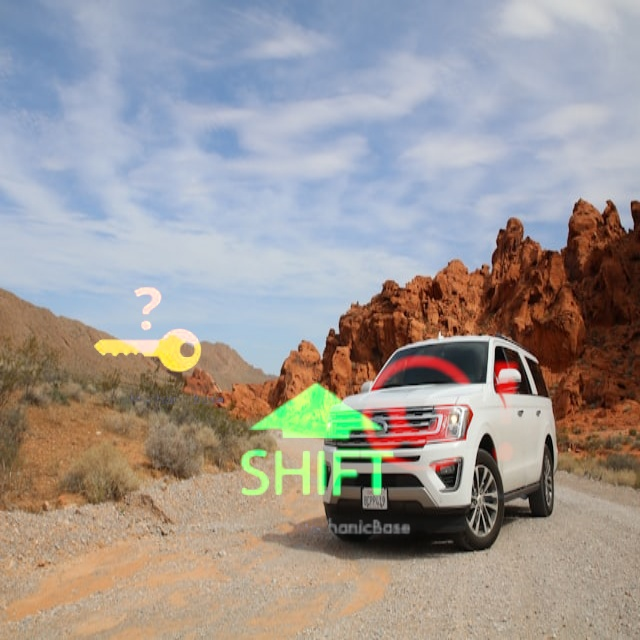symbol: (215, 341, 418, 544), (346, 322, 534, 510), (64, 247, 230, 413)
